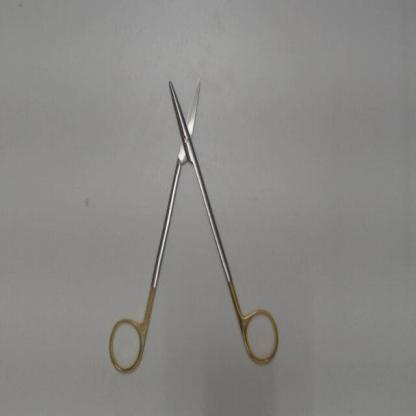7 Metzenbaum Scissors: (106, 68, 285, 381)
